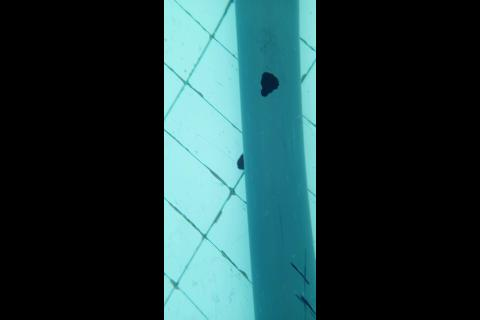kebocoran: (259, 72, 279, 98)
keretakan: (290, 252, 314, 320)
